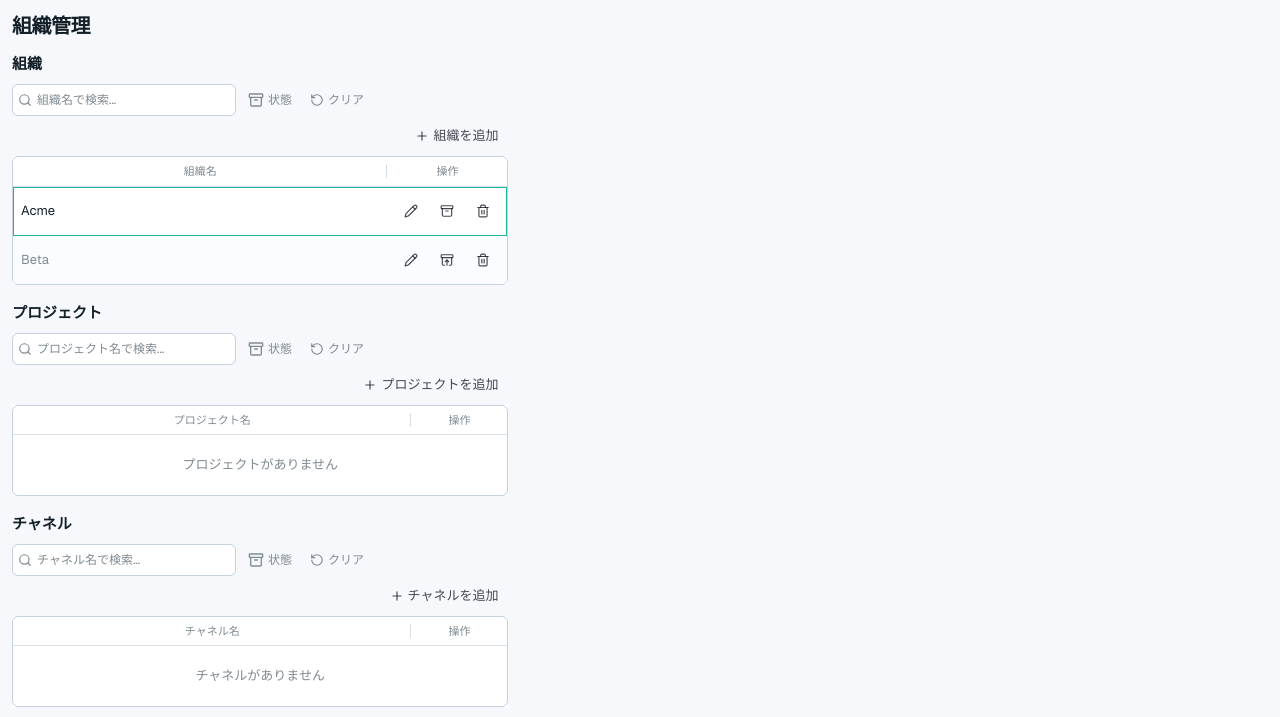
Test: OrganizationsScreen › 検索中に組織を追加すると検索語が解除され、追加した組織が一覧に見える
Step 1. Type "Acme" into the search field labelled "組織名で検索..." → {"x": 124, "y": 100}, box [12,84,236,116]
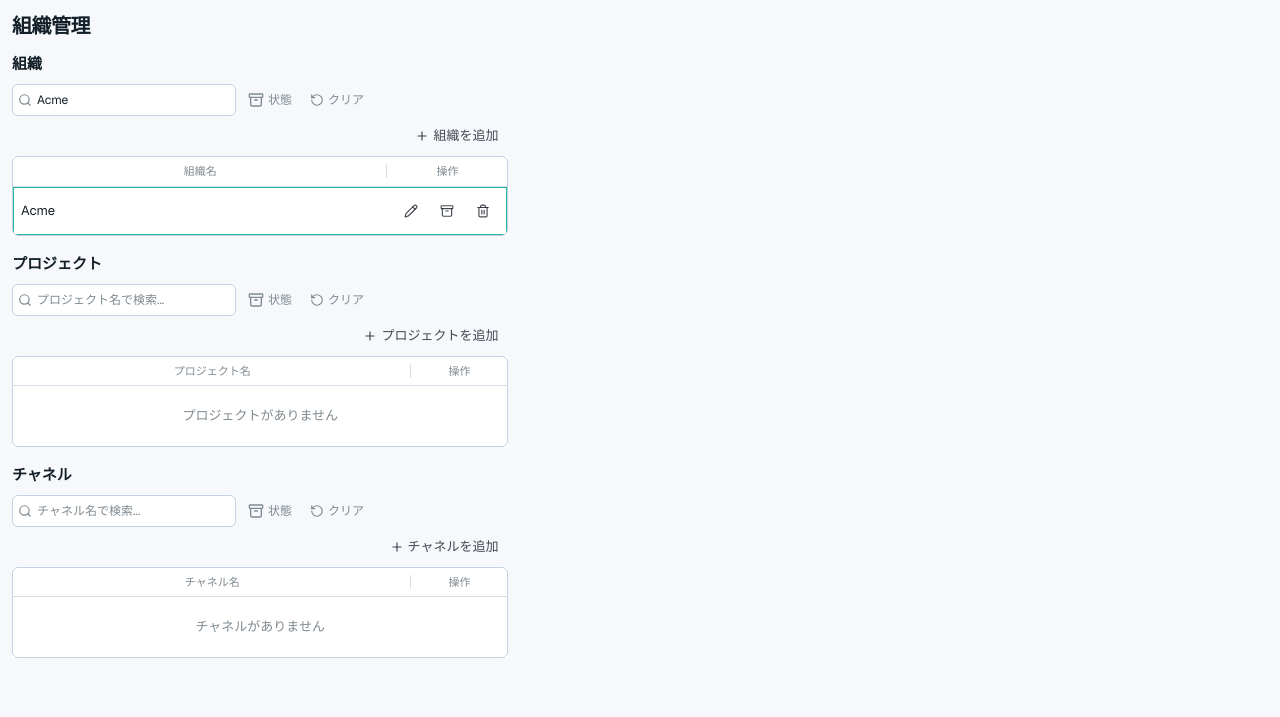
Step 2. Click the button labelled "組織を追加" → {"x": 457, "y": 136}, box [405,120,508,152]
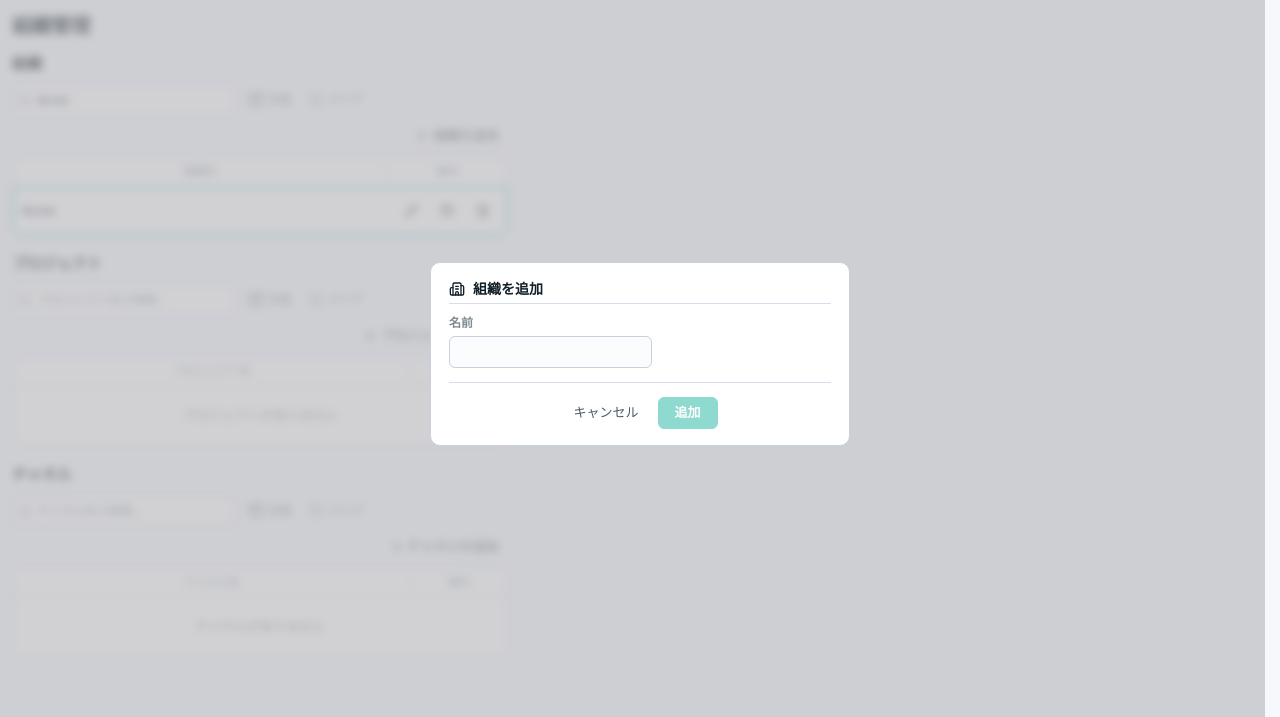
Step 3. Type "New Org" into the field labelled "名前" → {"x": 550, "y": 352}, box [449,336,652,368]
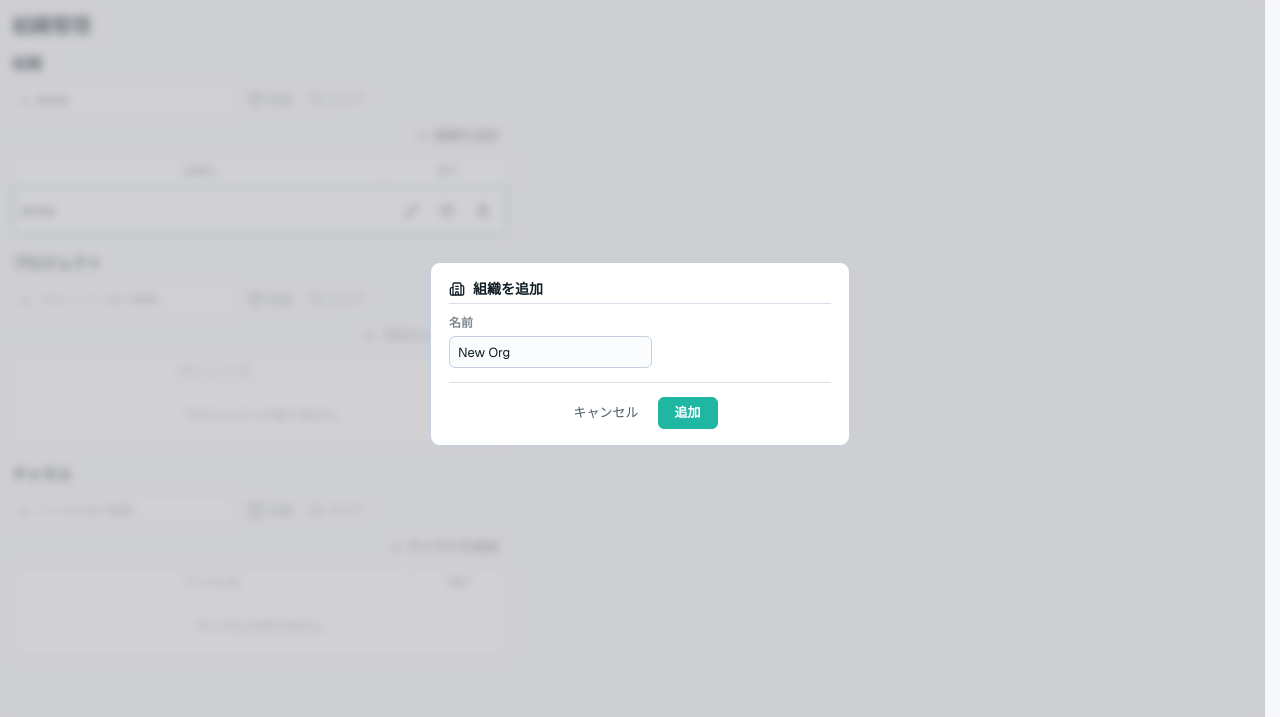
Step 4. Click the button "追加" → {"x": 688, "y": 413}, box [658,397,718,429]
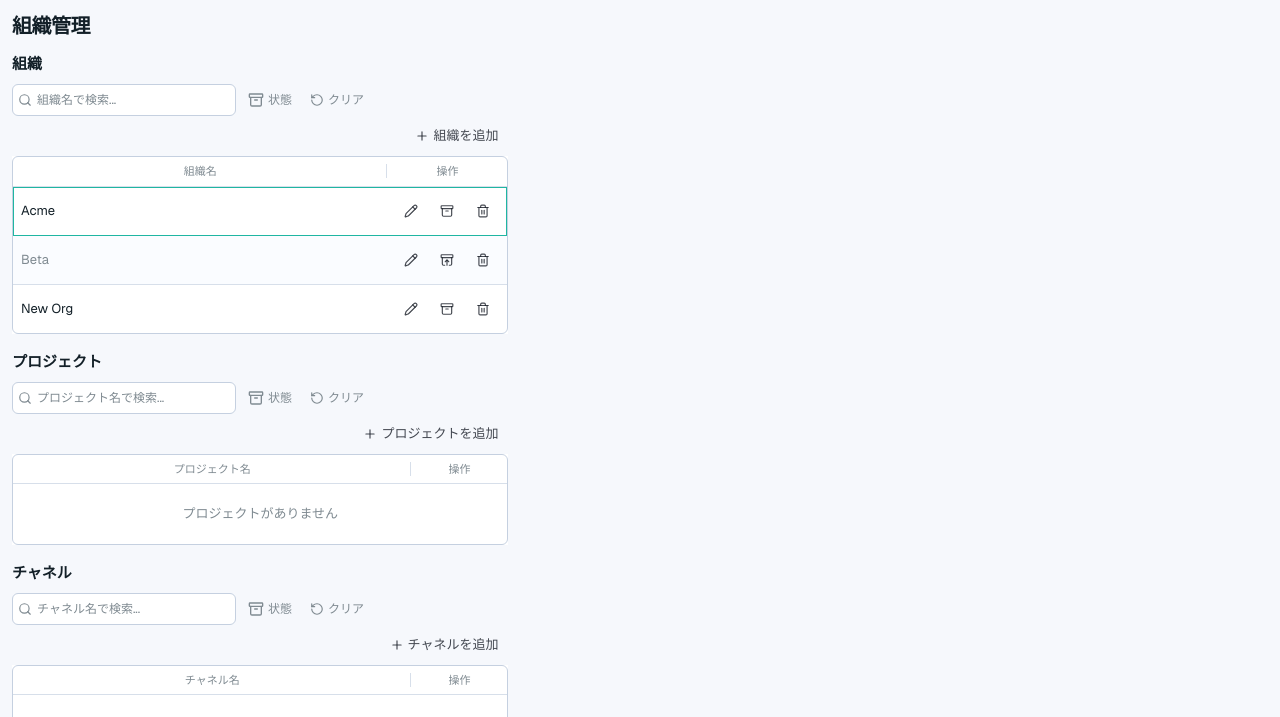
Result: the search field labelled "組織名で検索..." is empty at [12,84,236,116]
Result: the text "New Org" is shown at [21,300,73,317]
